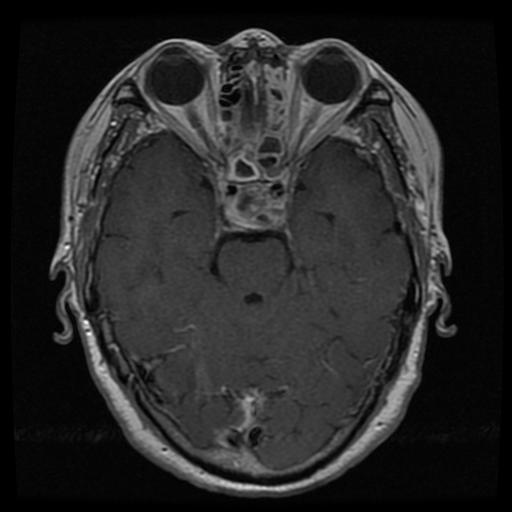Pituirity_tumour: (224, 181, 288, 228)
